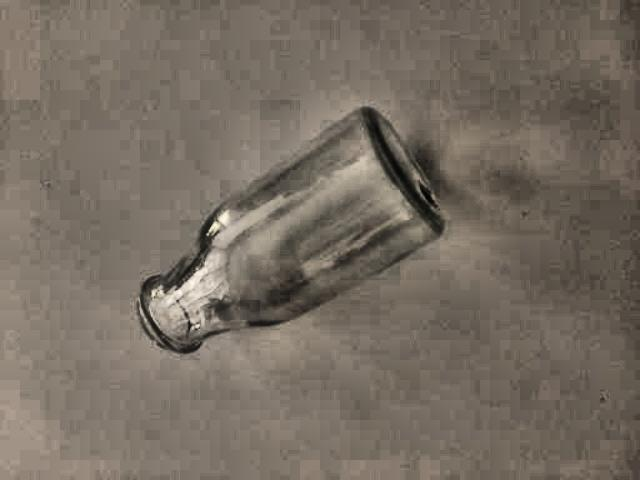Almennt: (125, 88, 444, 378)
